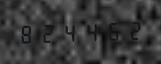eight: (17, 22, 37, 45)
four: (60, 20, 80, 44), (81, 19, 101, 43)
six: (102, 19, 122, 42)
two: (38, 21, 58, 44), (123, 18, 143, 41)
